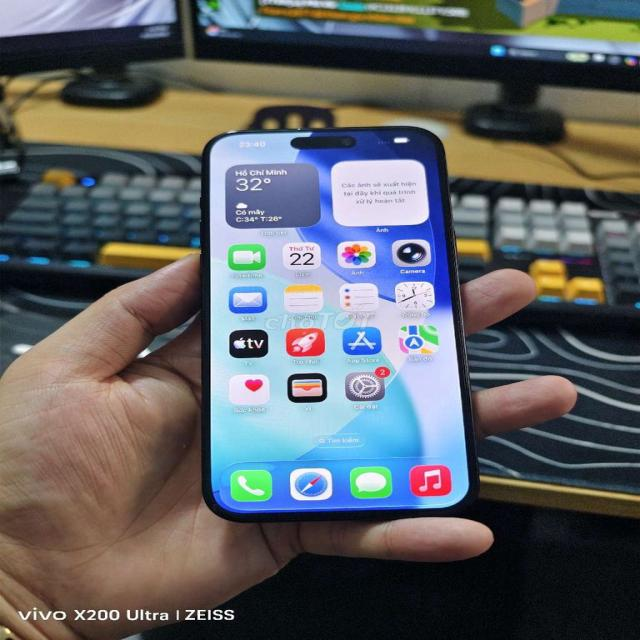gen_15: (155, 114, 517, 521)
